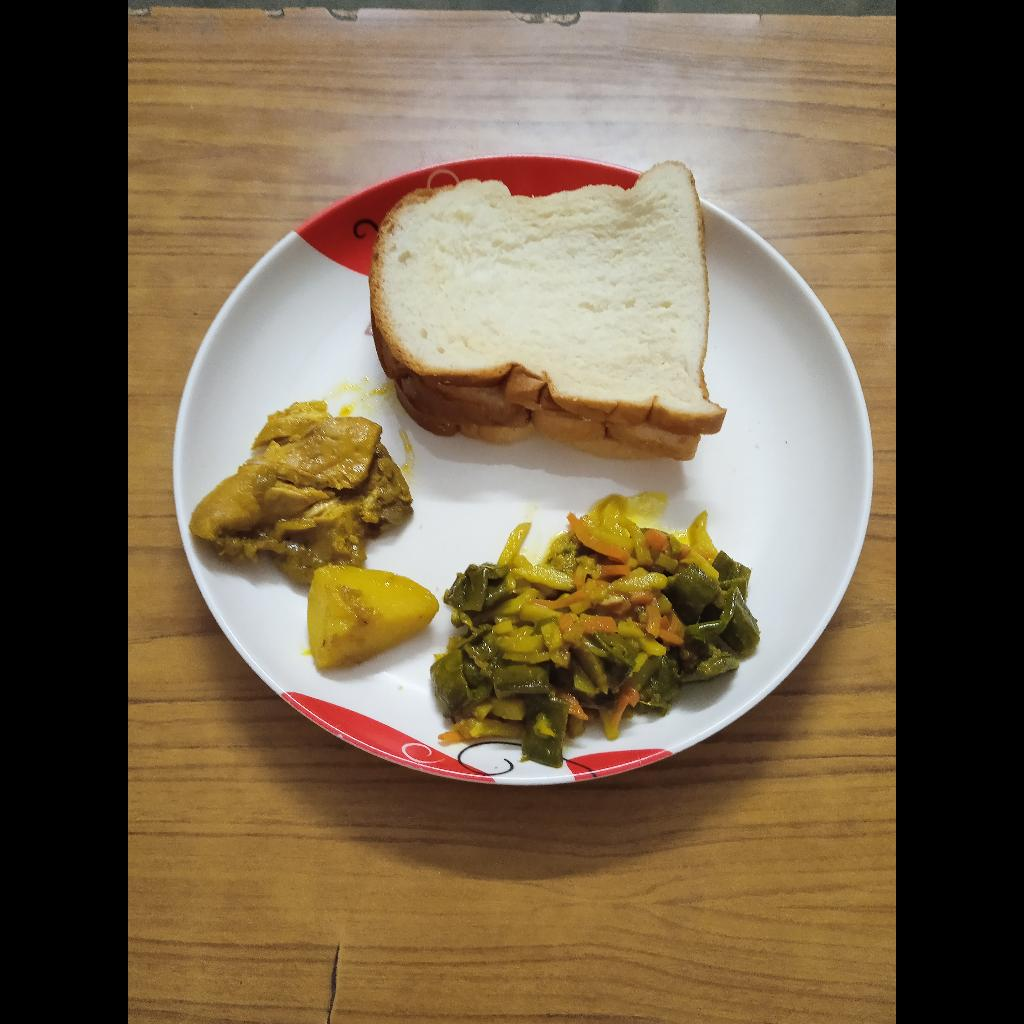bread: (368, 160, 728, 463)
chicken: (188, 400, 417, 585)
potato: (307, 566, 440, 669)
vegetable: (427, 508, 762, 769)
